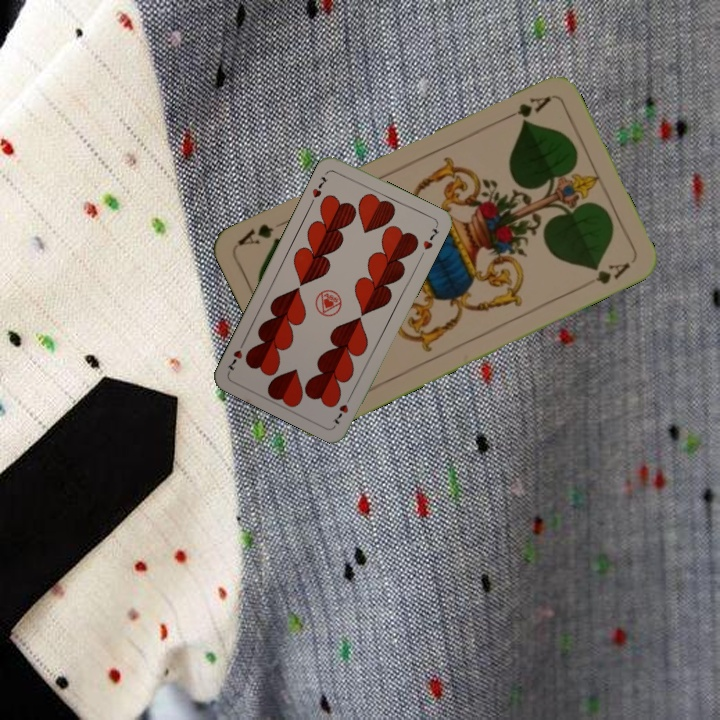GA: (498, 92, 553, 124)
H7: (329, 391, 355, 427), (308, 172, 331, 200)
